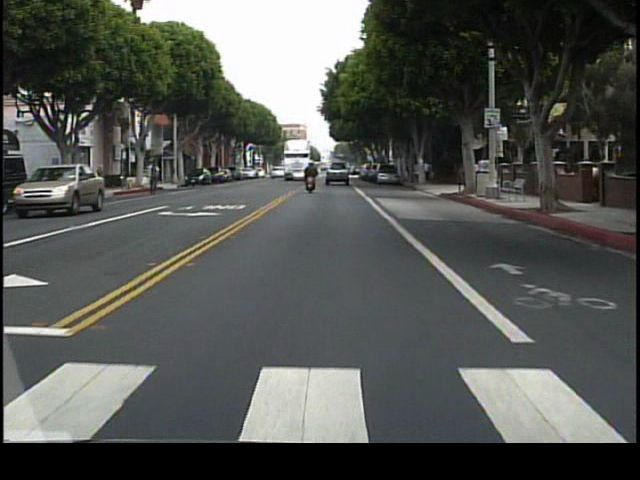person: (304, 158, 322, 200), (146, 161, 165, 194), (428, 158, 437, 185), (424, 159, 430, 182)
